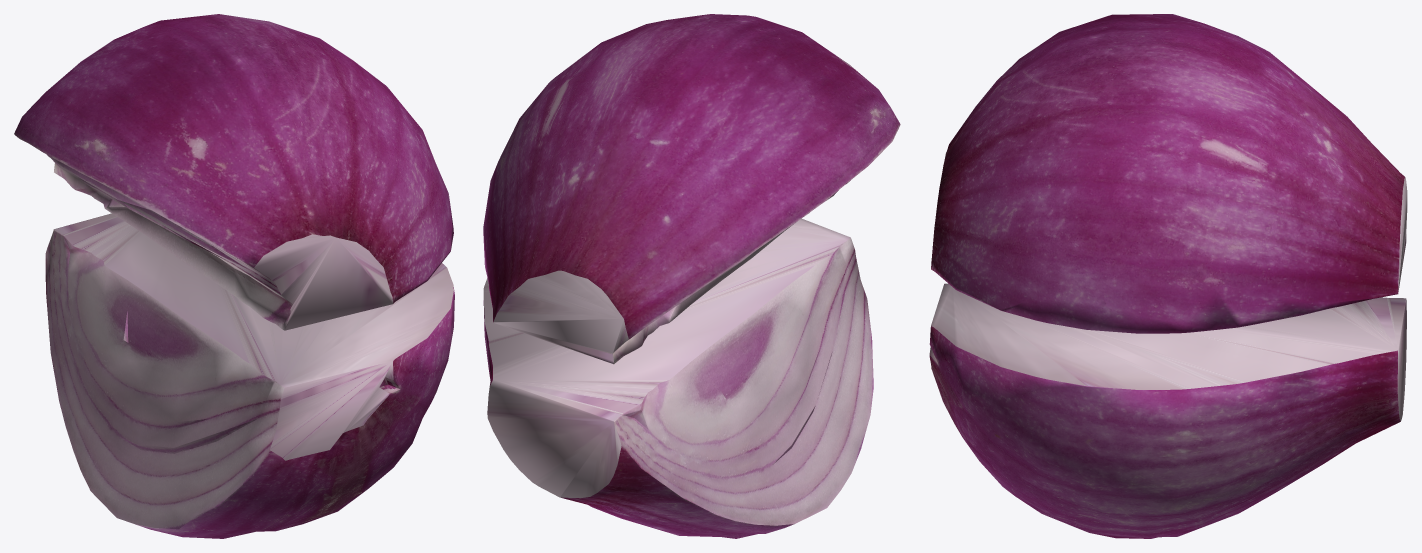
File: OnionCut02.fbx
3 views of the same model, side by side, from view 1: azimuth 30°, elevation 25°; view 2: azimuth 150°, elevation 25°; view 3: azimuth 270°, elevation 25° (orthographic).
Parts seen in each view (by area): view 1: Result, Result.001; view 2: Result, Result.001; view 3: Result, Result.001.
Boxes of the visible parts, bbox=[...] form: Result: bbox=[14, 14, 453, 330]; Result.001: bbox=[45, 213, 454, 538]; Result: bbox=[483, 14, 900, 364]; Result.001: bbox=[483, 218, 873, 538]; Result: bbox=[931, 14, 1407, 333]; Result.001: bbox=[929, 283, 1406, 538].
Bounding box in the file's own units: 239 × 300 × 271.
Materials: 1 (1 with a texture image).
